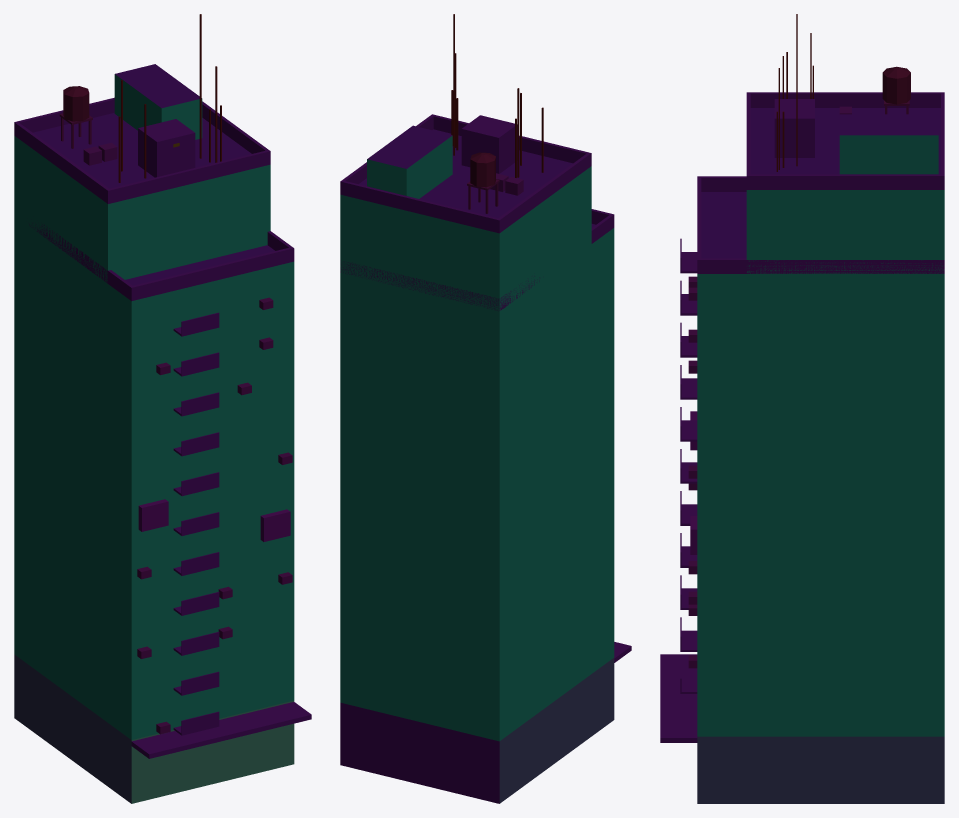
File: slab_c.lod1.glb
3 views of the same model, side by side, from view 1: azimuth 30°, elevation 25°; view 2: azimuth 150°, elevation 25°; view 3: azimuth 270°, elevation 25° (orthographic). The views are drawn at different scales.
Visible parts, largest first — view 1: slab_c.lod1; view 2: slab_c.lod1; view 3: slab_c.lod1.
Boxes of the visible parts, <box> form: slab_c.lod1: <box>14,14,311,803</box>; slab_c.lod1: <box>340,14,631,803</box>; slab_c.lod1: <box>660,14,944,803</box>.
Bounding box in the file's own units: 12.8 × 54.62 × 18.4.
